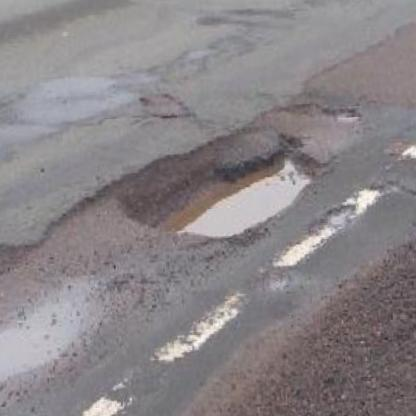pothole: (117, 146, 331, 237), (0, 236, 32, 292), (324, 100, 364, 126)
